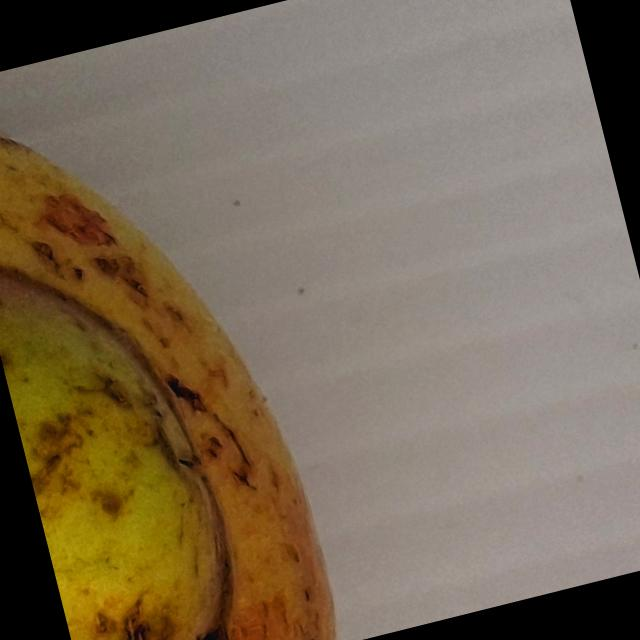mangosteen: (0, 13, 383, 640)
